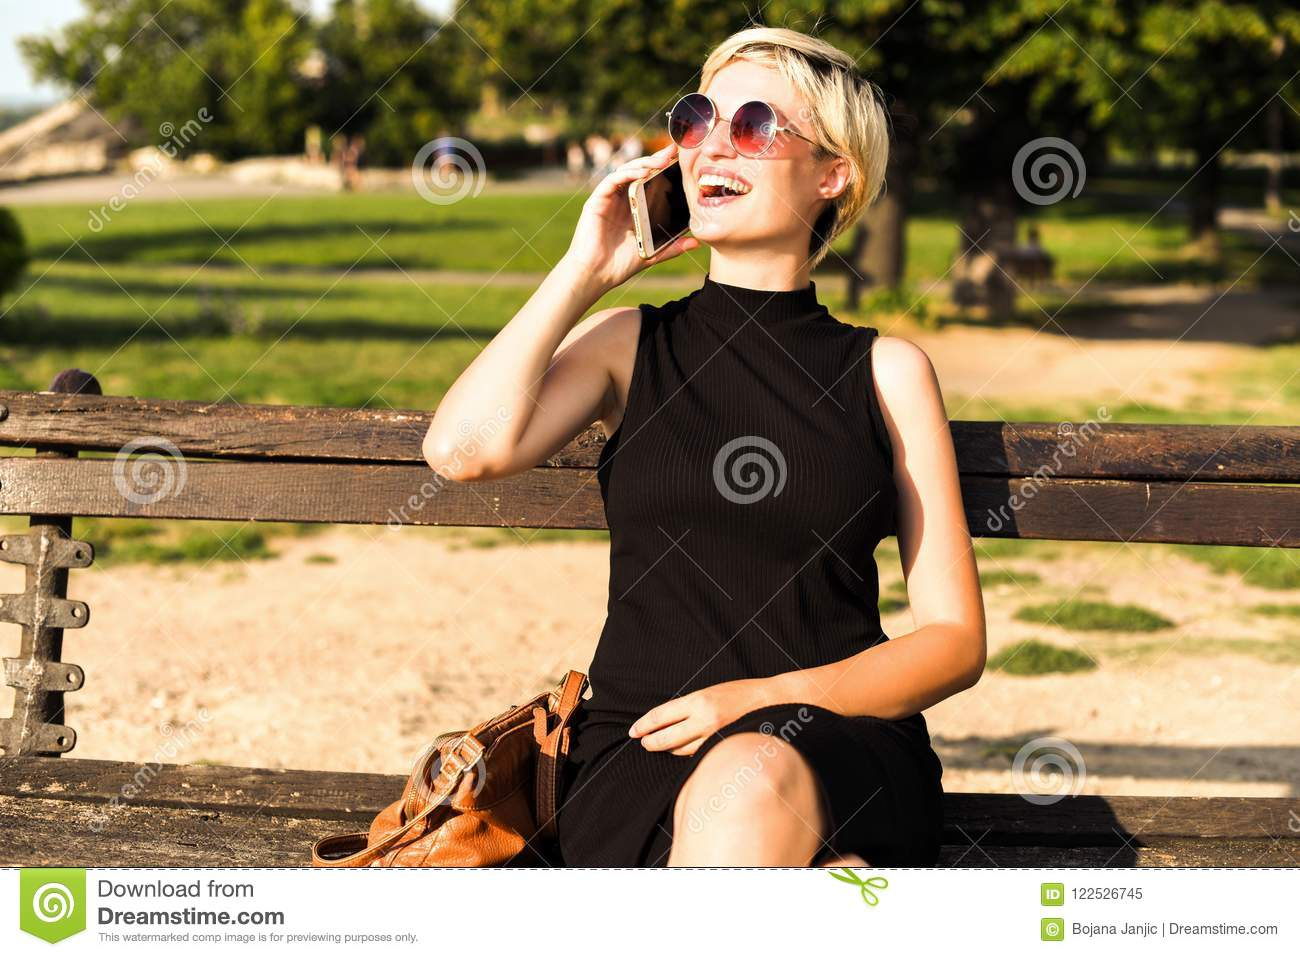phone: (630, 161, 692, 264)
talk: (567, 94, 793, 291)
